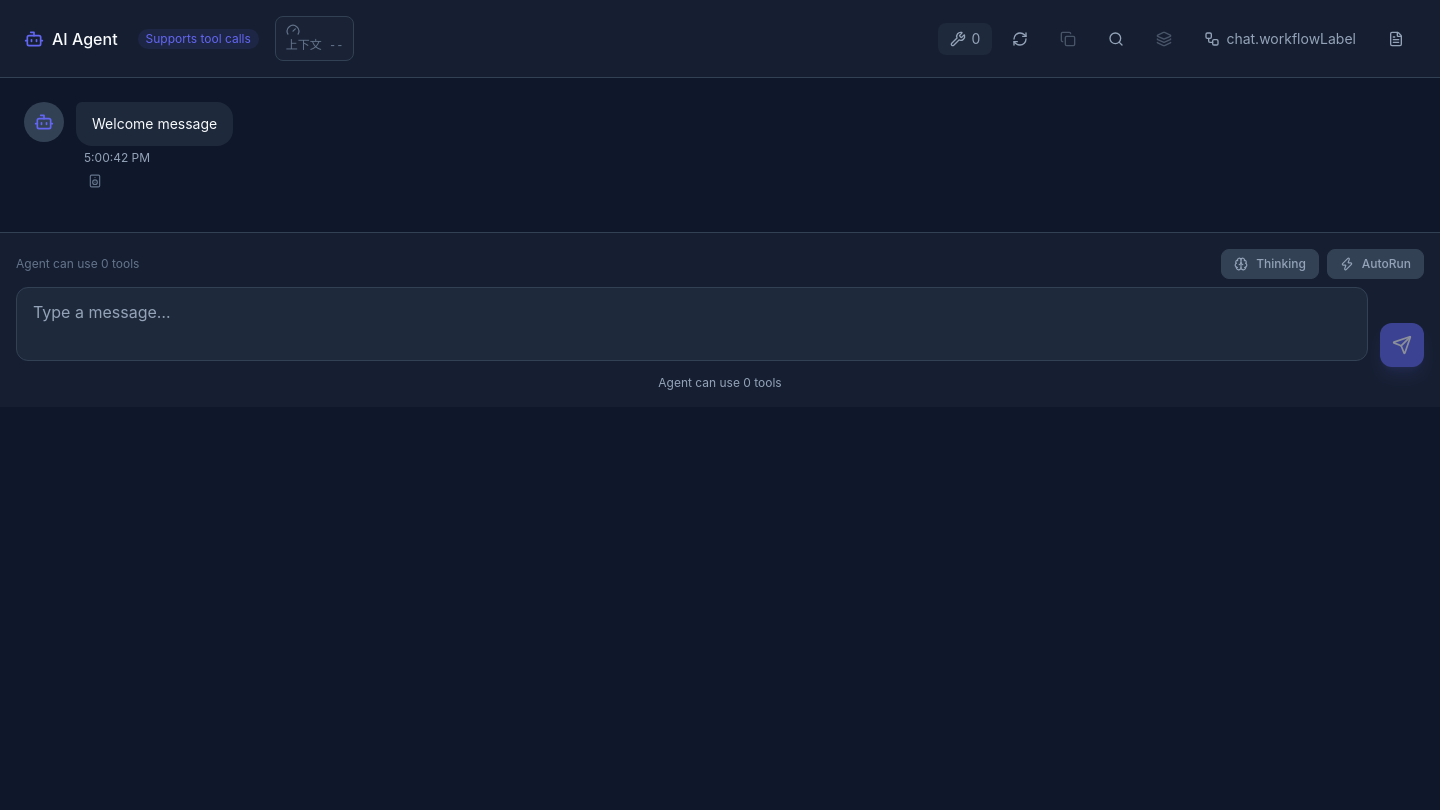
Test: AgentChat › renders an error event as a message bubble
In the text box with placeholder "Type a message…": (692, 324) [16,287,1368,361], type "bad"
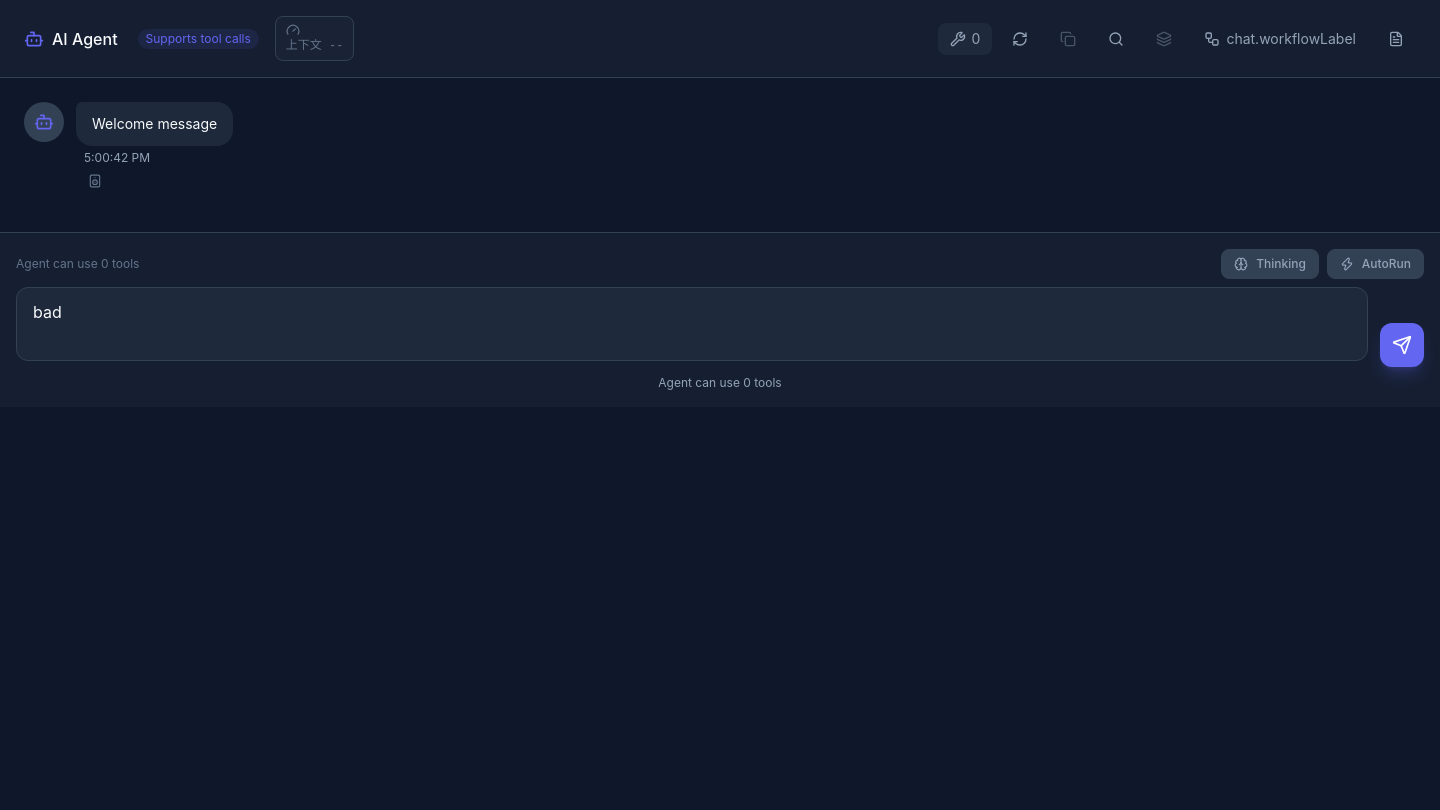
Click the button titled "Send": (1402, 345) [1380,323,1424,367]
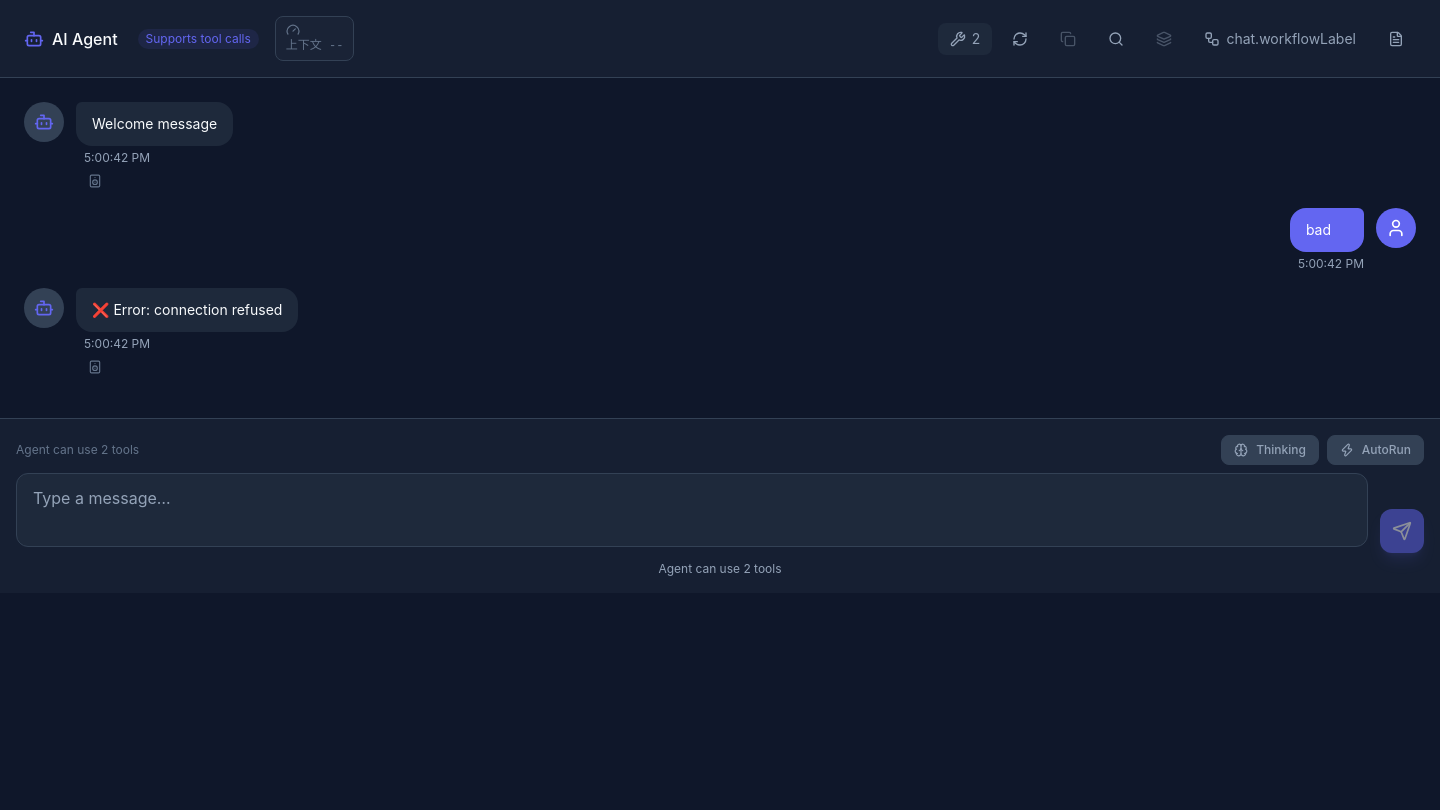
Expected: the text "❌ Error: connection refused" is shown, [92,300,282,320]
